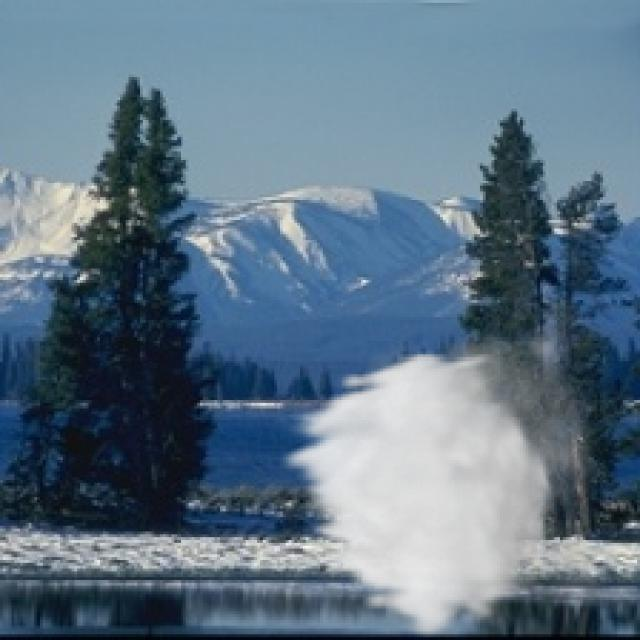Smoke: (274, 288, 623, 638)
